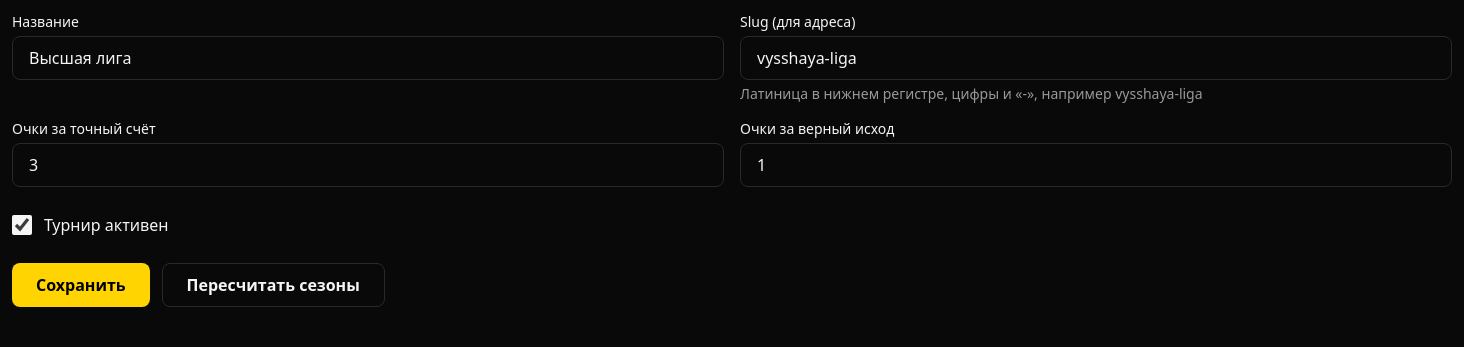
Test: TournamentForm › puts the server's duplicate-slug message next to the slug field
Click the button "Сохранить": (81, 285) left=12, top=263, right=150, bottom=307
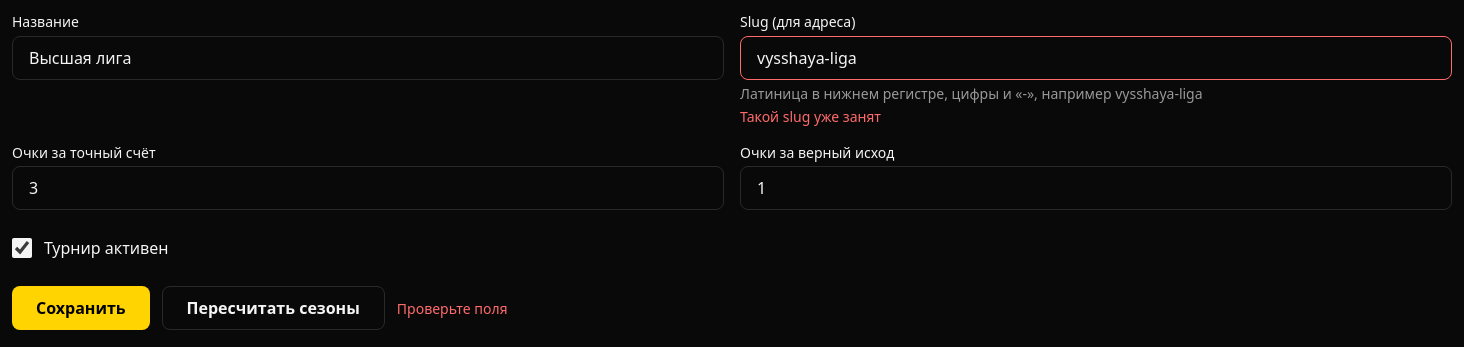
Expected: the text "Такой slug уже занят" is shown, left=740, top=107, right=881, bottom=126
